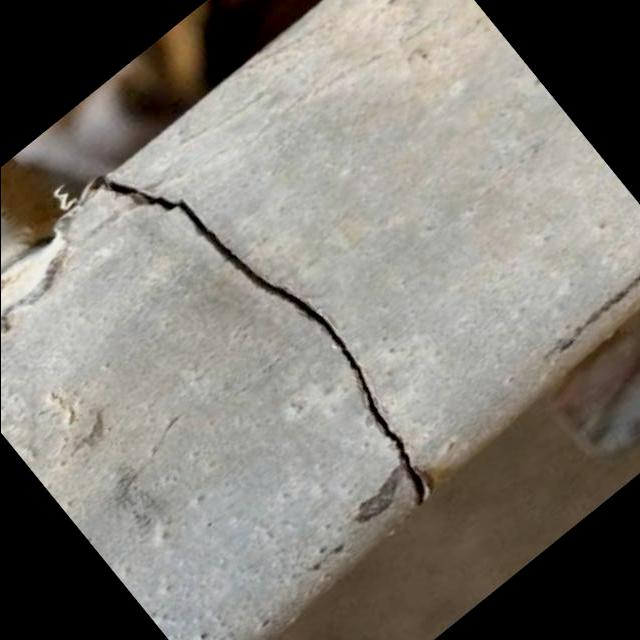defect: (94, 172, 436, 513)
